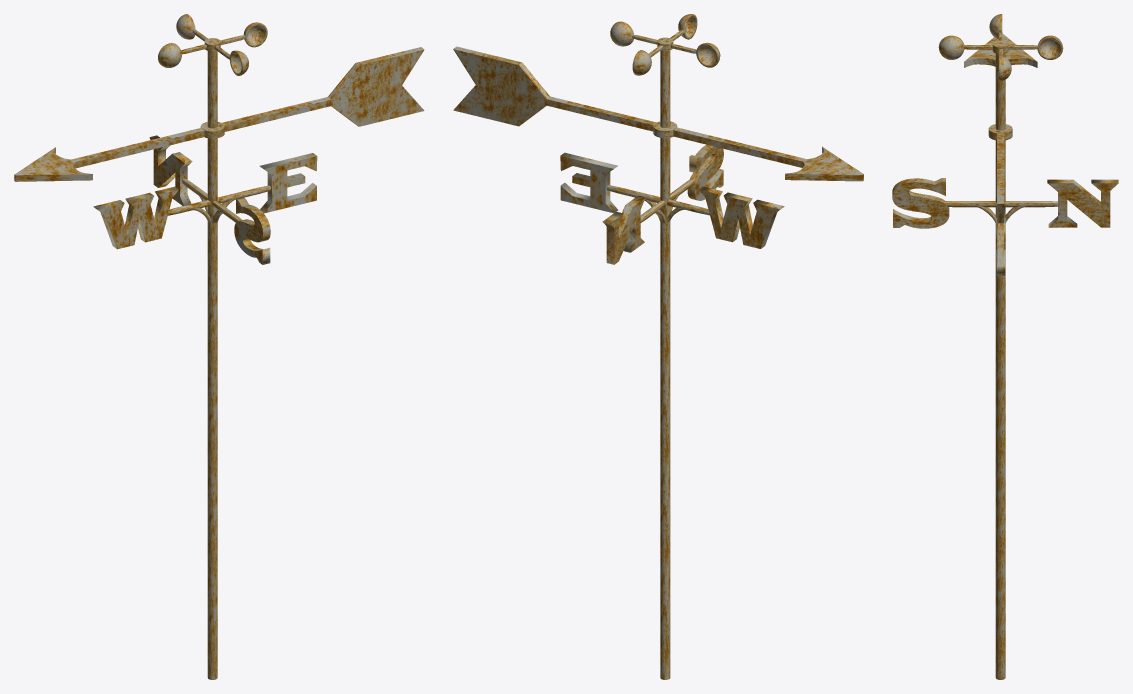
File: windvane.glb
3 views of the same model, side by side, from view 1: azimuth 30°, elevation 25°; view 2: azimuth 150°, elevation 25°; view 3: azimuth 270°, elevation 25° (orthographic).
Visible parts, largest first — view 1: arrow, pillar, west, east, south, north, Cube; view 2: arrow, pillar, west, east, north, south, Cube; view 3: pillar, south, north, arrow, Cube.001, Sphere.003, Sphere.004.
Part boxes in pixels (x1,y1,x2,y2): arrow: (14, 47, 424, 181); pillar: (207, 51, 217, 679); west: (93, 186, 178, 249); east: (259, 153, 317, 213); south: (234, 197, 270, 264); north: (149, 135, 192, 205); Cube: (157, 185, 270, 215); arrow: (453, 46, 863, 181); pillar: (660, 50, 670, 679); west: (699, 186, 784, 248); east: (560, 152, 618, 213); north: (602, 195, 645, 264); south: (687, 144, 723, 200); Cube: (607, 185, 720, 215); pillar: (995, 53, 1005, 679); south: (892, 178, 949, 228); north: (1047, 179, 1118, 227); arrow: (964, 34, 1037, 264); Cube.001: (943, 201, 1057, 207); Sphere.003: (1037, 35, 1063, 59); Sphere.004: (938, 35, 964, 59).
Size of the model in its own units: 1.71 by 2.58 by 0.8253.
1 material, 1 textured.
